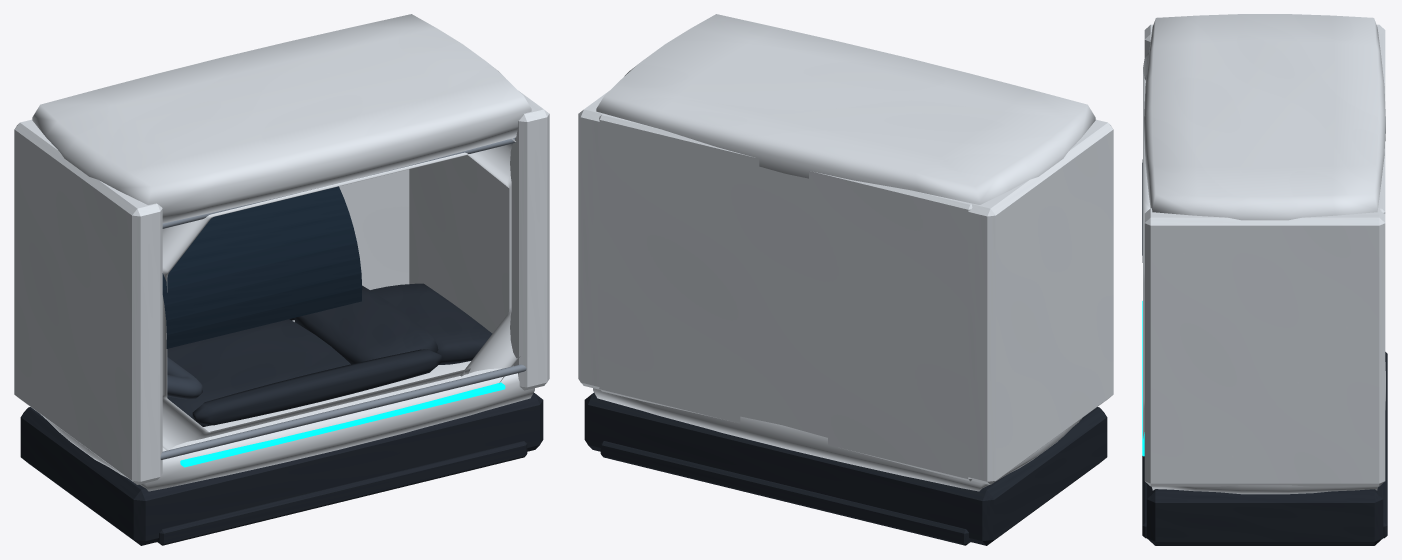
File: bunk_r1_01.glb
3 views of the same model, side by side, from view 1: azimuth 30°, elevation 25°; view 2: azimuth 150°, elevation 25°; view 3: azimuth 270°, elevation 25° (orthographic). The views are drawn at different scales.
Visible parts, largest first — view 1: CryoBerth_AerospaceWhiteHull, CryoBerth_GunmetalPedestal, CryoBerth_ContouredFlightCouch, CryoBerth_SmokedPolycarbonateCanopy, CryoBerth_TitaniumCanopyTracks, CryoBerth_CyanLEDPerimeter, CryoBerth_CranialHeadCradle; view 2: CryoBerth_AerospaceWhiteHull, CryoBerth_GunmetalPedestal; view 3: CryoBerth_AerospaceWhiteHull, CryoBerth_GunmetalPedestal.
Part boxes in pixels (x1,y1,x2,y2): CryoBerth_AerospaceWhiteHull: (14,14,549,491); CryoBerth_GunmetalPedestal: (20,392,543,545); CryoBerth_ContouredFlightCouch: (167,283,492,426); CryoBerth_SmokedPolycarbonateCanopy: (162,186,362,348); CryoBerth_TitaniumCanopyTracks: (160,138,526,459); CryoBerth_CyanLEDPerimeter: (180,382,505,467); CryoBerth_CranialHeadCradle: (167,357,202,399); CryoBerth_AerospaceWhiteHull: (578,14,1113,491); CryoBerth_GunmetalPedestal: (584,392,1107,545); CryoBerth_AerospaceWhiteHull: (1143,14,1385,494); CryoBerth_GunmetalPedestal: (1142,352,1387,545).
Size of the model in its own units: 2.18 by 1.79 by 1.14.
8 materials, 8 textured.
